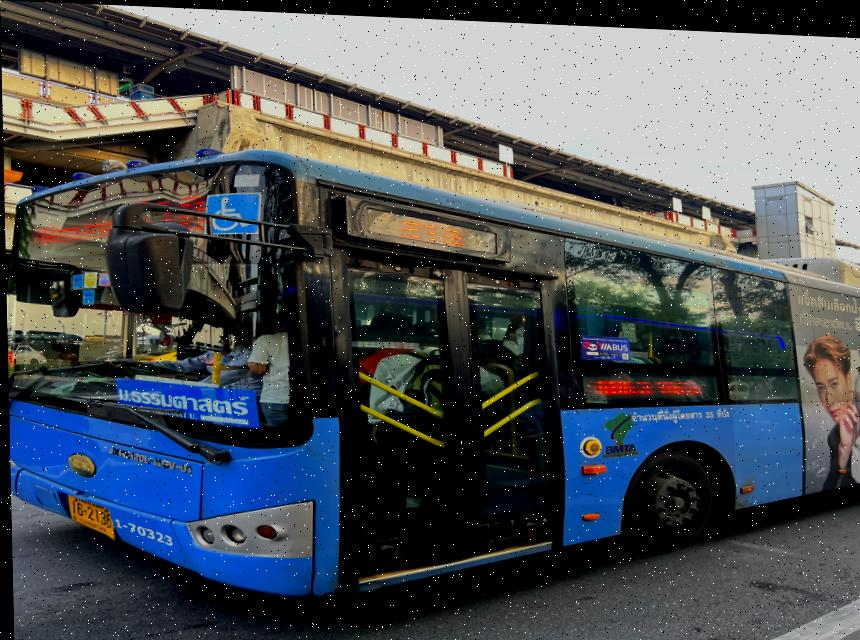BMTA-bus: (4, 147, 860, 598)
Bus Side Number: (105, 512, 176, 550)
Destination Sign: (110, 377, 263, 429)
